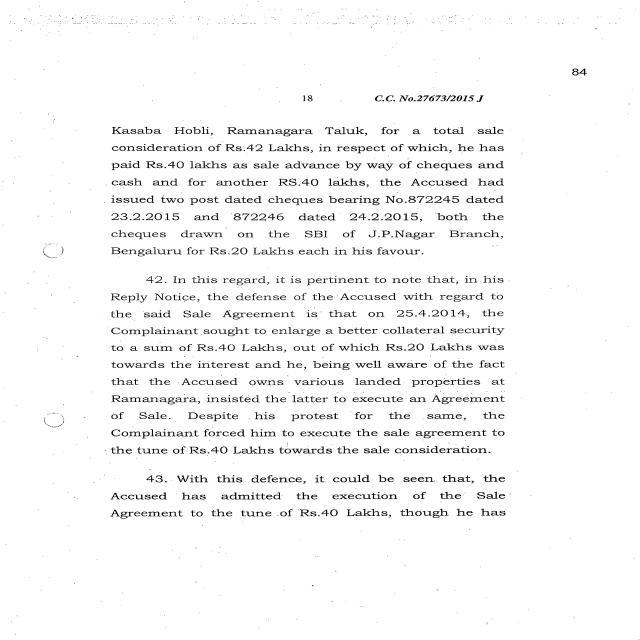page-number: (505, 28, 640, 165)
